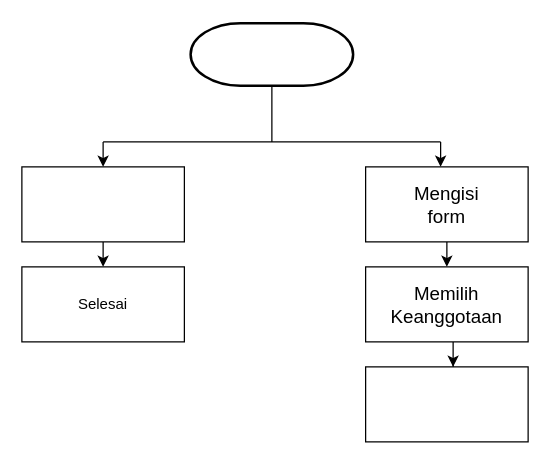
Image size: 550x464. Some labels were removed from this diagram. The centre of each missing label's shape, as x and y in pixels:
Masuk: (271,53)
Mengakses file absen: (102,204)
